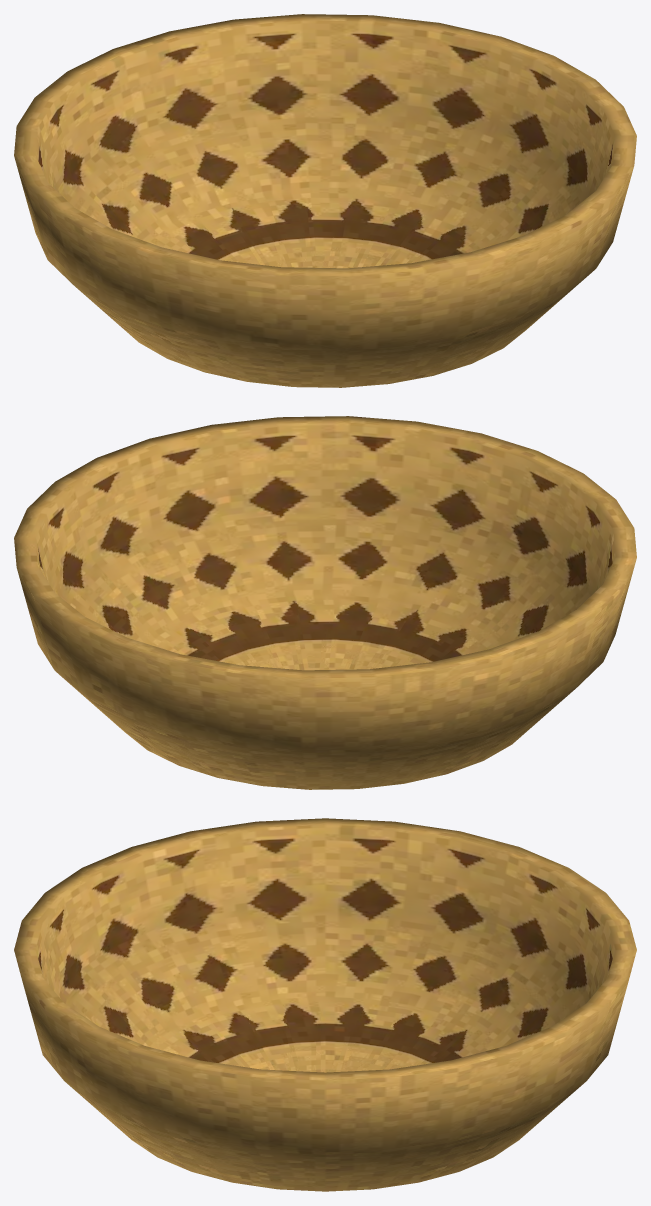
File: calebasse.glb
The picture shows the model from 3 angles, top to bottom: view 1: azimuth 30°, elevation 25°; view 2: azimuth 150°, elevation 25°; view 3: azimuth 270°, elevation 25°; orthographic projection.
Visible parts, largest first — view 1: calebasse; view 2: calebasse; view 3: calebasse.
Part boxes in pixels (x1,y1,x2,y2): calebasse: [14, 14, 636, 387]; calebasse: [14, 416, 636, 789]; calebasse: [14, 818, 636, 1191].
Size of the model in its own units: 0.58 by 0.2 by 0.58.
Materials: 1 (1 with a texture image).
